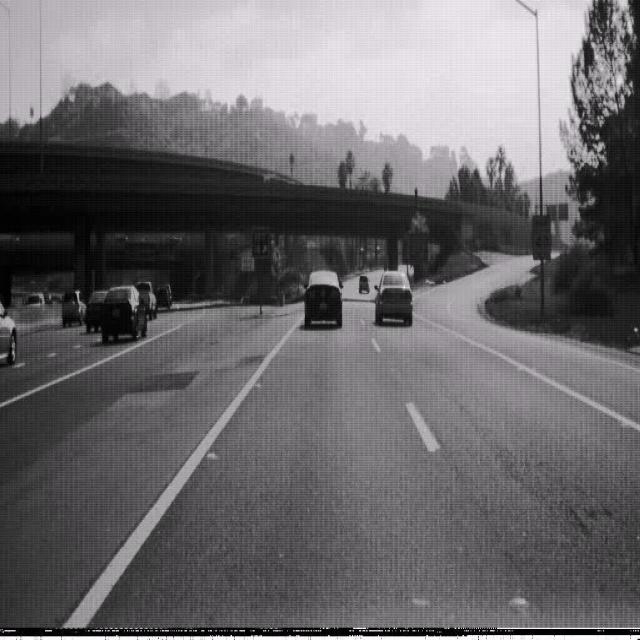speedLimit40: (532, 214, 551, 260)
